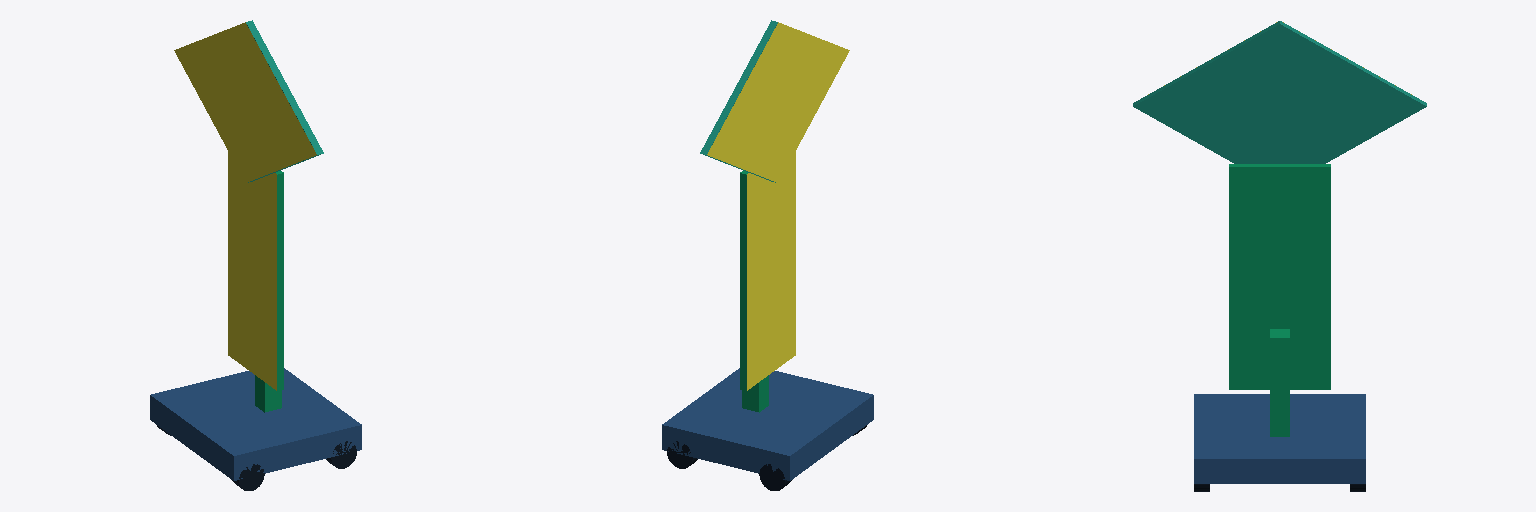
The robot description file, URDF, robot "goalkeeper_robot":
<?xml version='1.0' encoding='utf-8'?>
<robot name="goalkeeper_robot">
  <!--Generated from config/keeper.design.json; run tools/generate_geometry.py.-->
  <link name="world" />
  <link name="base_link">
    <inertial>
      <mass value="0.001" />
      <inertia ixx="1e-06" iyy="1e-06" izz="1e-06" ixy="0" ixz="0" iyz="0" />
    </inertial>
  </link>
  <joint name="world_to_base" type="fixed">
    <parent link="world" />
    <child link="base_link" />
    <origin xyz="0 0 0" rpy="0 0 0" />
  </joint>
  <link name="keeper_chassis">
    <inertial>
      <origin xyz="0.00169047619 0 0.150952381" rpy="0 0 0" />
      <mass value="42" />
      <inertia ixx="3.051995238" iyy="2.265774548" izz="4.86092931" ixy="0" ixz="-0.02407238095" iyz="0" />
    </inertial>
    <visual name="chassis">
      <origin xyz="0.0 0 0.15" rpy="0 0 0" />
      <geometry>
        <box size="0.75 0.85 0.14" />
      </geometry>
      <material name="chassis_material">
        <color rgba="0.20 0.35 0.51 1" />
      </material>
    </visual>
    <collision name="chassis">
      <origin xyz="0.0 0 0.15" rpy="0 0 0" />
      <geometry>
        <box size="0.75 0.85 0.14" />
      </geometry>
    </collision>
    <visual name="front_left_wheel">
      <origin xyz="0.27 0.385 0.075" rpy="1.5707963267948966 0 0" />
      <geometry>
        <cylinder radius="0.075" length="0.08" />
      </geometry>
      <material name="front_left_wheel_material">
        <color rgba="0.10 0.14 0.19 1" />
      </material>
    </visual>
    <collision name="front_left_wheel">
      <origin xyz="0.27 0.385 0.075" rpy="1.5707963267948966 0 0" />
      <geometry>
        <cylinder radius="0.075" length="0.08" />
      </geometry>
    </collision>
    <visual name="front_right_wheel">
      <origin xyz="0.27 -0.385 0.075" rpy="1.5707963267948966 0 0" />
      <geometry>
        <cylinder radius="0.075" length="0.08" />
      </geometry>
      <material name="front_right_wheel_material">
        <color rgba="0.10 0.14 0.19 1" />
      </material>
    </visual>
    <collision name="front_right_wheel">
      <origin xyz="0.27 -0.385 0.075" rpy="1.5707963267948966 0 0" />
      <geometry>
        <cylinder radius="0.075" length="0.08" />
      </geometry>
    </collision>
    <visual name="rear_left_wheel">
      <origin xyz="-0.27 0.385 0.075" rpy="1.5707963267948966 0 0" />
      <geometry>
        <cylinder radius="0.075" length="0.08" />
      </geometry>
      <material name="rear_left_wheel_material">
        <color rgba="0.10 0.14 0.19 1" />
      </material>
    </visual>
    <collision name="rear_left_wheel">
      <origin xyz="-0.27 0.385 0.075" rpy="1.5707963267948966 0 0" />
      <geometry>
        <cylinder radius="0.075" length="0.08" />
      </geometry>
    </collision>
    <visual name="rear_right_wheel">
      <origin xyz="-0.27 -0.385 0.075" rpy="1.5707963267948966 0 0" />
      <geometry>
        <cylinder radius="0.075" length="0.08" />
      </geometry>
      <material name="rear_right_wheel_material">
        <color rgba="0.10 0.14 0.19 1" />
      </material>
    </visual>
    <collision name="rear_right_wheel">
      <origin xyz="-0.27 -0.385 0.075" rpy="1.5707963267948966 0 0" />
      <geometry>
        <cylinder radius="0.075" length="0.08" />
      </geometry>
    </collision>
    <visual name="hinge_support">
      <origin xyz="0.071 0 0.49" rpy="0 0 0" />
      <geometry>
        <box size="0.1 0.1 0.54" />
      </geometry>
      <material name="hinge_support_material">
        <color rgba="0.08 0.60 0.40 1" />
      </material>
    </visual>
    <collision name="hinge_support">
      <origin xyz="0.071 0 0.49" rpy="0 0 0" />
      <geometry>
        <box size="0.1 0.1 0.54" />
      </geometry>
    </collision>
  </link>
  <gazebo reference="keeper_chassis">
    <selfCollide>true</selfCollide>
    <mu1>0</mu1>
    <mu2>0</mu2>
  </gazebo>
  <link name="keeper_board">
    <inertial>
      <origin xyz="-0.01674418605 0 0.6580232558" rpy="0 0 0" />
      <mass value="43" />
      <inertia ixx="14.51707364" iyy="12.44184283" izz="2.120185853" ixy="0" ixz="0.3830232558" iyz="0" />
    </inertial>
    <visual name="rectangle_panel">
      <origin xyz="0.0 0 0.2749999999999999" rpy="0 0 0" />
      <geometry>
        <box size="0.04 0.5 1.21" />
      </geometry>
      <material name="rectangle_panel_material">
        <color rgba="0.08 0.60 0.40 1" />
      </material>
    </visual>
    <collision name="rectangle_panel">
      <origin xyz="0.0 0 0.2749999999999999" rpy="0 0 0" />
      <geometry>
        <box size="0.04 0.5 1.21" />
      </geometry>
    </collision>
    <visual name="diamond_panel">
      <origin xyz="-0.04 0 1.19" rpy="0 0 0" />
      <geometry>
        <mesh filename="package://goalkeeper_description/meshes/diamond_panel.stl" />
      </geometry>
      <material name="diamond_panel_material">
        <color rgba="0.14 0.57 0.50 1" />
      </material>
    </visual>
    <collision name="diamond_panel">
      <origin xyz="-0.04 0 1.19" rpy="0 0 0" />
      <geometry>
        <mesh filename="package://goalkeeper_description/meshes/diamond_panel.stl" />
      </geometry>
    </collision>
    <visual name="keeper_front_decal">
      <origin xyz="0 0 -0.76" rpy="0 0 0" />
      <geometry>
        <mesh filename="package://goalkeeper_description/meshes/keeper-front-decal.obj" />
      </geometry>
    </visual>
  </link>
  <gazebo reference="keeper_board">
    <selfCollide>true</selfCollide>
  </gazebo>
  <joint name="slide_joint" type="prismatic">
    <parent link="base_link" />
    <child link="keeper_chassis" />
    <origin xyz="0 0 0" rpy="0 0 0" />
    <axis xyz="0 1 0" />
    <limit lower="-3.55" upper="3.55" velocity="17" effort="18000" />
  </joint>
  <joint name="tilt_joint" type="revolute">
    <parent link="keeper_chassis" />
    <child link="keeper_board" />
    <origin xyz="0 0 0.76" rpy="0 0 0" />
    <axis xyz="1 0 0" />
    <limit lower="-1.5707963267948966" upper="1.5707963267948966" velocity="6.5" effort="9000" />
  </joint>
  <gazebo>
    <plugin filename="gz-sim-joint-trajectory-controller-system" name="gz::sim::systems::JointTrajectoryController">
      <topic>/model/goalkeeper_robot/joint_trajectory</topic>
      <joint_name>slide_joint</joint_name>
      <joint_name>tilt_joint</joint_name>
      <initial_position>0.0</initial_position>
      <initial_position>0.0</initial_position>
      <position_p_gain>120000</position_p_gain>
      <position_p_gain>60000</position_p_gain>
      <position_i_gain>0</position_i_gain>
      <position_i_gain>0</position_i_gain>
      <position_d_gain>0</position_d_gain>
      <position_d_gain>0</position_d_gain>
      <position_i_max>0</position_i_max>
      <position_i_max>0</position_i_max>
      <velocity_p_gain>6500</velocity_p_gain>
      <velocity_p_gain>2600</velocity_p_gain>
      <position_i_min>0</position_i_min>
      <position_i_min>0</position_i_min>
      <position_cmd_max>18000</position_cmd_max>
      <position_cmd_min>-18000</position_cmd_min>
      <velocity_cmd_max>18000</velocity_cmd_max>
      <velocity_cmd_min>-18000</velocity_cmd_min>
      <position_cmd_max>9000</position_cmd_max>
      <position_cmd_min>-9000</position_cmd_min>
      <velocity_cmd_max>9000</velocity_cmd_max>
      <velocity_cmd_min>-9000</velocity_cmd_min>
    </plugin>
    <plugin filename="gz-sim-joint-state-publisher-system" name="gz::sim::systems::JointStatePublisher">
      <joint_name>slide_joint</joint_name>
      <joint_name>tilt_joint</joint_name>
    </plugin>
  </gazebo>
</robot>

--- Facts derived from the render (not from the file) ---
3 views of the same robot in one strip: view 1: azimuth 30°, elevation 25°; view 2: azimuth 150°, elevation 25°; view 3: azimuth 270°, elevation 25° (orthographic).
Robot: goalkeeper_robot — 4 links, 3 joints (1 revolute, 1 prismatic, 1 fixed); root link world; default pose: every joint at zero.
Visible links, largest first — view 1: keeper_board, keeper_chassis; view 2: keeper_board, keeper_chassis; view 3: keeper_board, keeper_chassis.
Boxes of the visible links, <box> form: keeper_board: <box>174,20,323,390</box>; keeper_chassis: <box>150,368,361,490</box>; keeper_board: <box>700,20,849,390</box>; keeper_chassis: <box>662,368,873,490</box>; keeper_board: <box>1133,21,1426,389</box>; keeper_chassis: <box>1194,329,1365,491</box>.
Size in the robot's own frame: 0.75 by 1.45 by 2.4 metres.
Meshes: 2 distinct files referenced, 2 mesh visuals loaded (1 ASCII STL, 1 OBJ).
